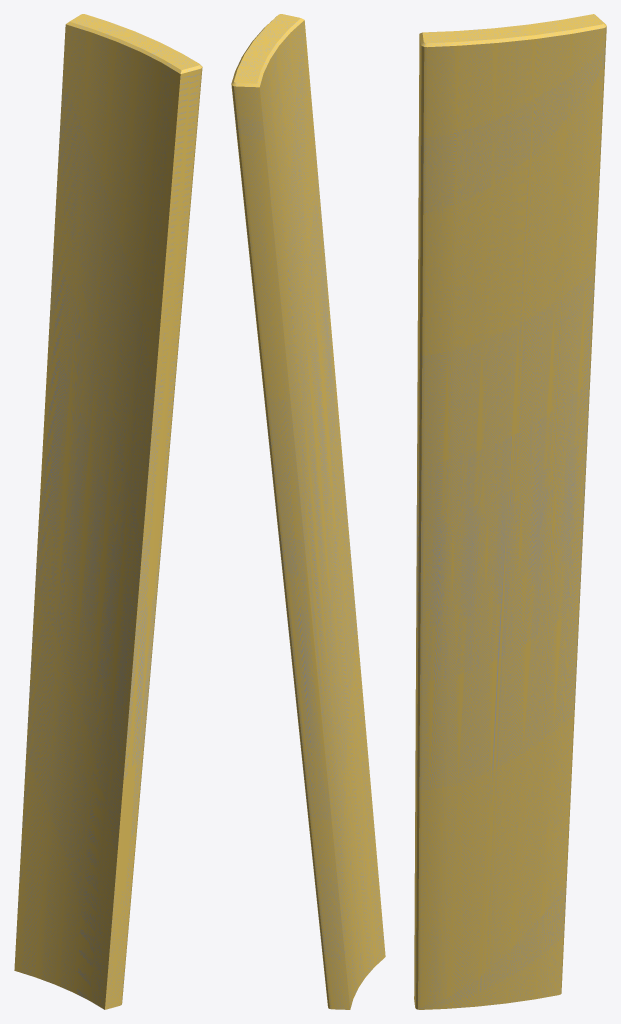
The model's file is original-28.obj.
The picture shows the model from 3 angles, left to right: view 1: azimuth 30°, elevation 25°; view 2: azimuth 150°, elevation 25°; view 3: azimuth 270°, elevation 25°; orthographic projection. The views are drawn at different scales.
Visible parts, largest first — view 1: #ID219; view 2: #ID219; view 3: #ID219.
Boxes of the visible parts, bbox=[...] form: #ID219: bbox=[14, 14, 202, 1009]; #ID219: bbox=[231, 14, 385, 1009]; #ID219: bbox=[414, 14, 606, 1009].
Size of the model in its own units: 0.1523 by 1.02 by 0.1769.
